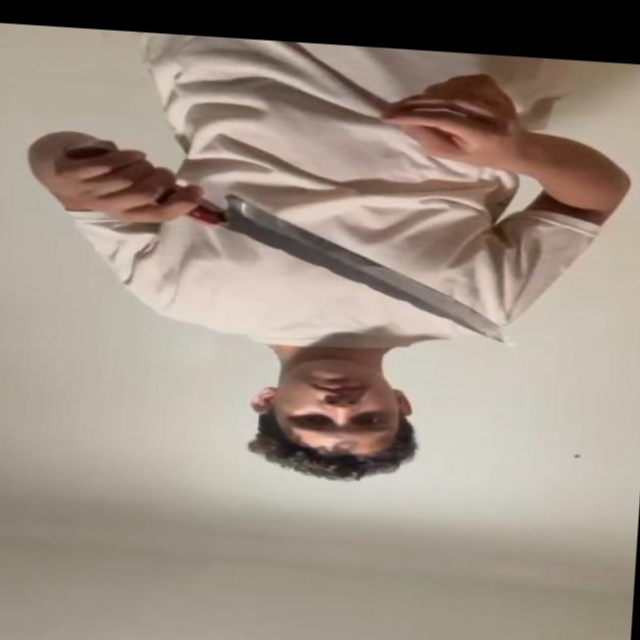Sharp-Object: (221, 202, 524, 345)
